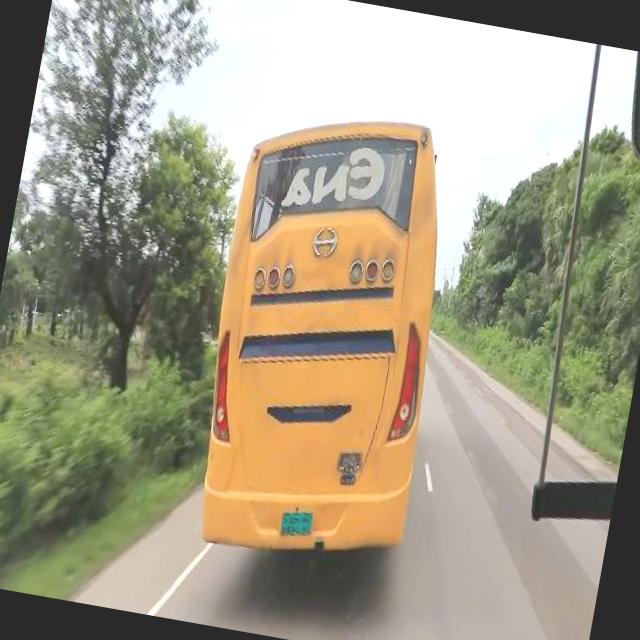bus: (176, 92, 476, 579)
